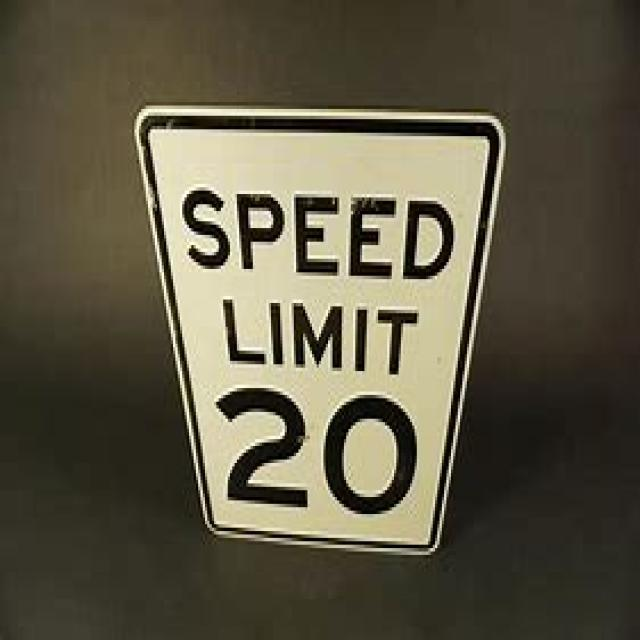speedLimit20: (132, 106, 506, 562)
